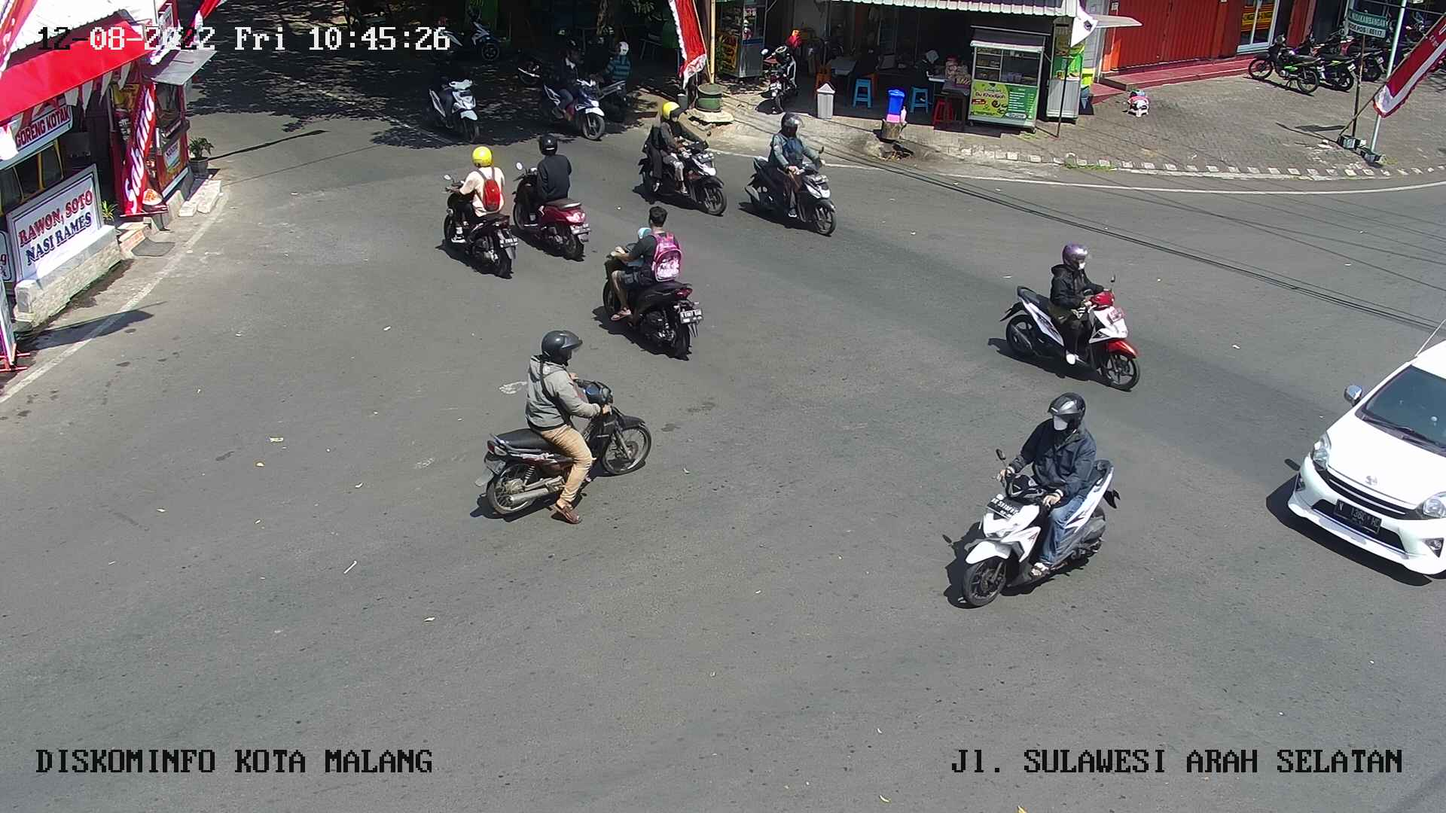with_helmet: (919, 388, 1126, 612), (465, 332, 651, 531), (1004, 209, 1149, 403), (738, 106, 861, 246), (411, 140, 525, 282), (632, 93, 735, 207), (513, 133, 595, 266)
without_helmet: (570, 192, 716, 371)
